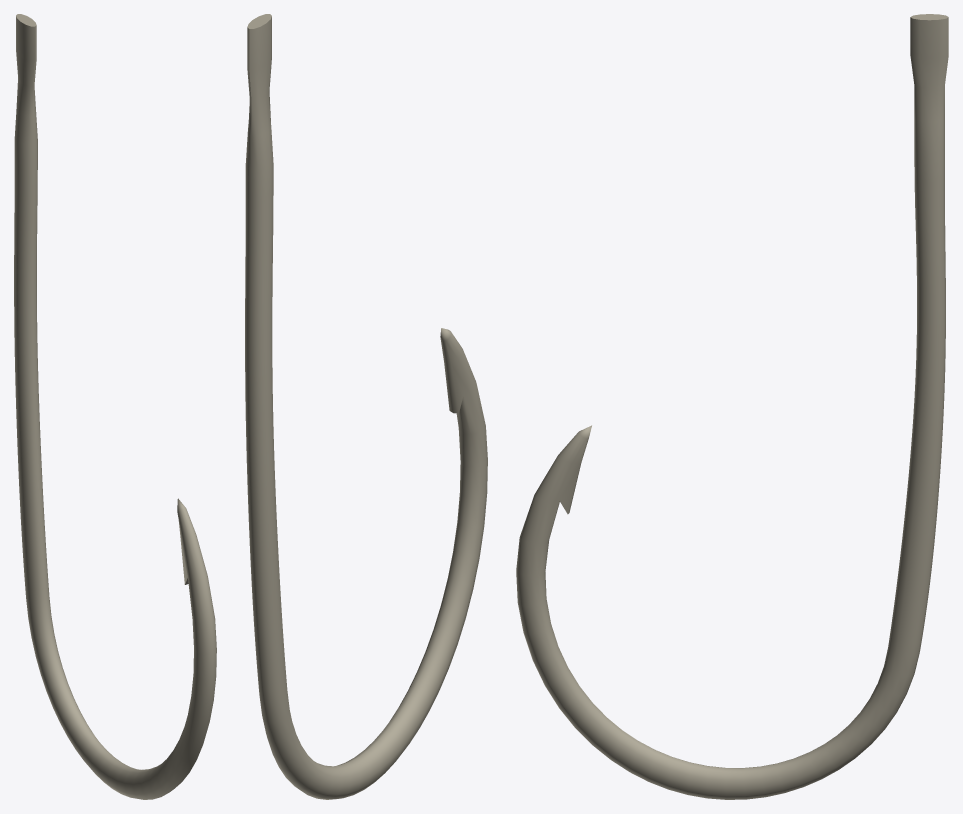
File: haczyk2.fbx
3 views of the same model, side by side, from view 1: azimuth 30°, elevation 25°; view 2: azimuth 150°, elevation 25°; view 3: azimuth 270°, elevation 25° (orthographic). The views are drawn at different scales.
Parts seen in each view (by area): view 1: BezierCurve; view 2: BezierCurve; view 3: BezierCurve.
Part boxes in pixels (left/top/right/bottom): BezierCurve: left=14, top=14, right=216, bottom=799; BezierCurve: left=245, top=14, right=487, bottom=799; BezierCurve: left=516, top=14, right=948, bottom=799.
Size of the model in its own units: 3.17 by 113 by 56.69.
